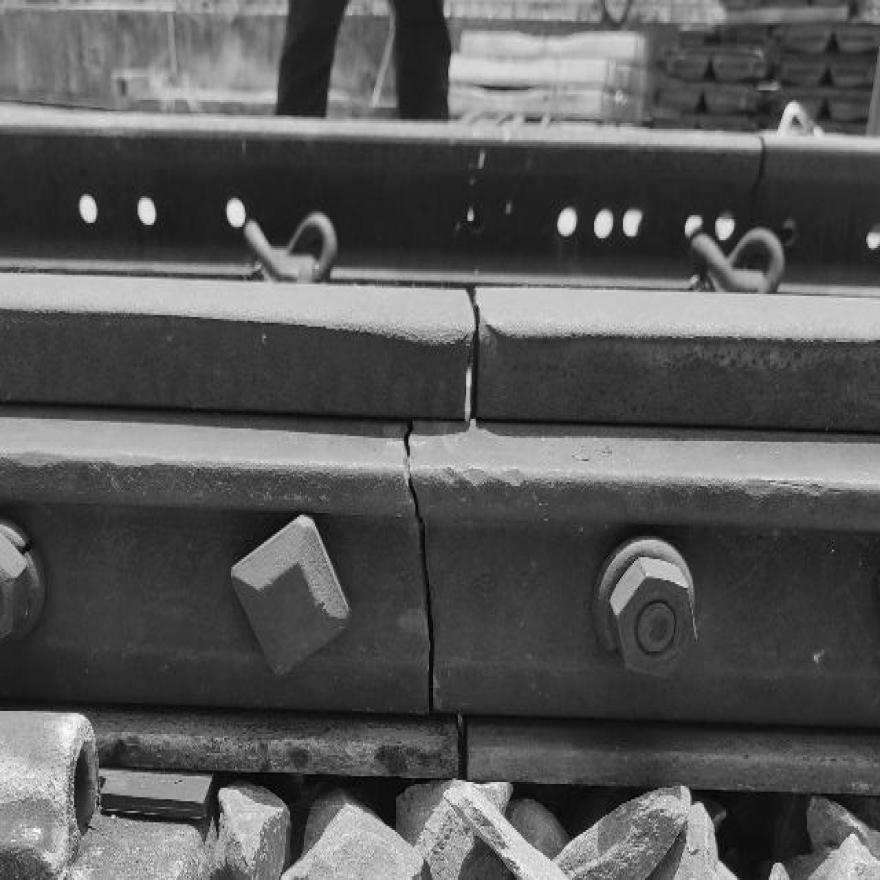railway-gap: (385, 223, 559, 465), (400, 654, 523, 826), (733, 123, 793, 205)
